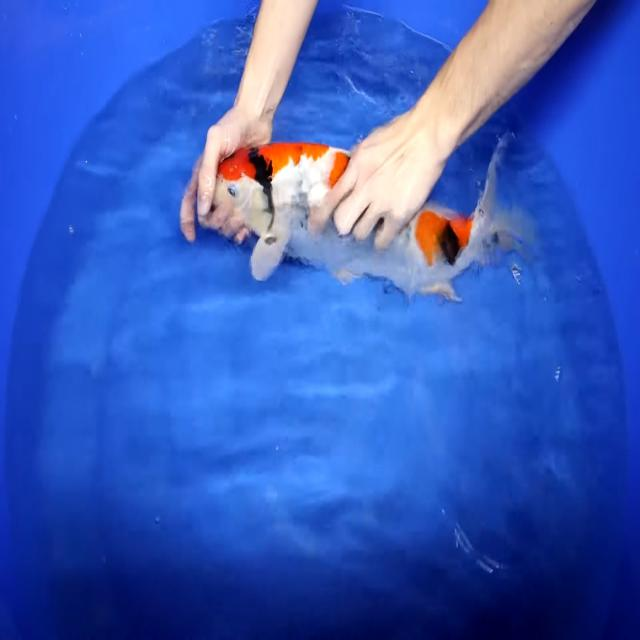Showa: (185, 132, 532, 302)
